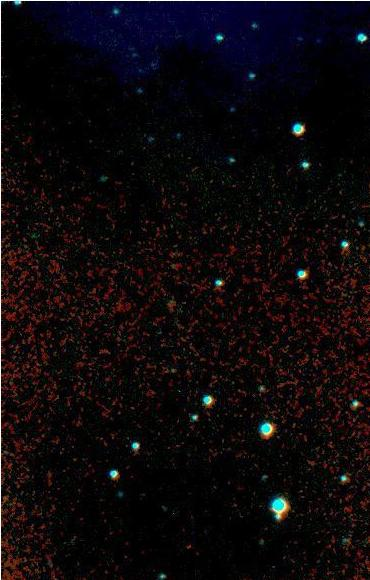star: (172, 531, 202, 561)
